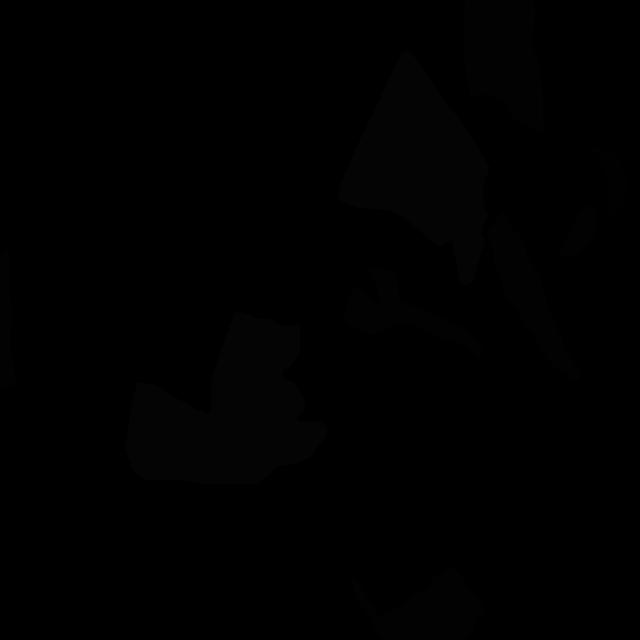cardboard: (486, 211, 580, 382), (343, 268, 483, 358), (464, 0, 544, 134), (350, 564, 486, 640), (0, 250, 16, 388), (557, 205, 596, 256)
rigid_plastic: (591, 146, 629, 217)
soft_plastic: (337, 51, 490, 285), (125, 312, 328, 484)
